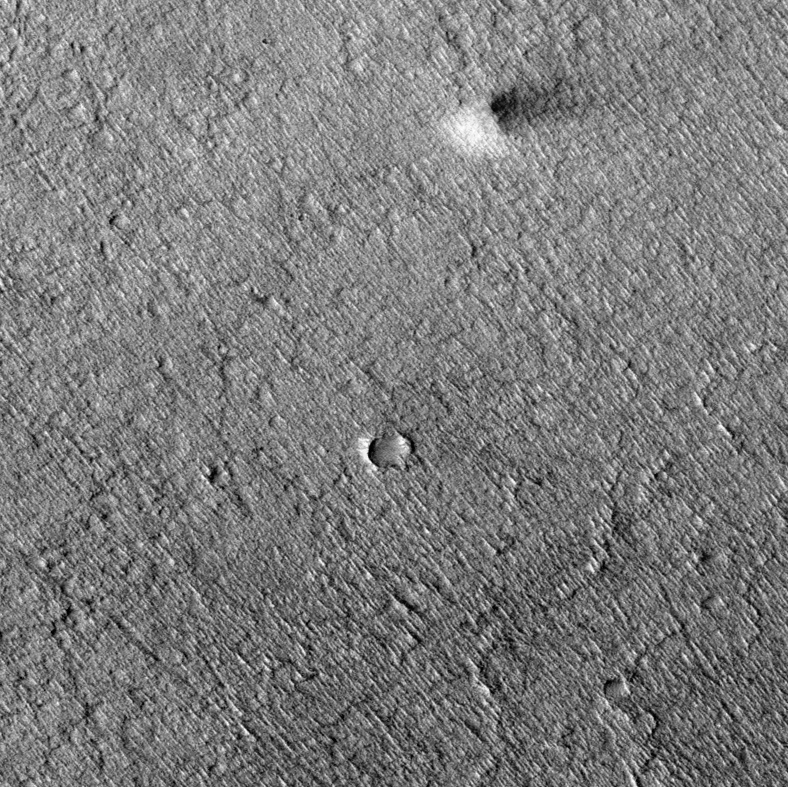dust_devil: (435, 73, 595, 162)
